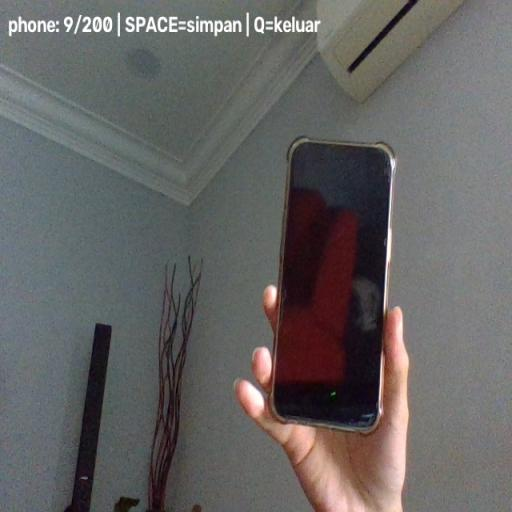Phone: (267, 137, 396, 435)
